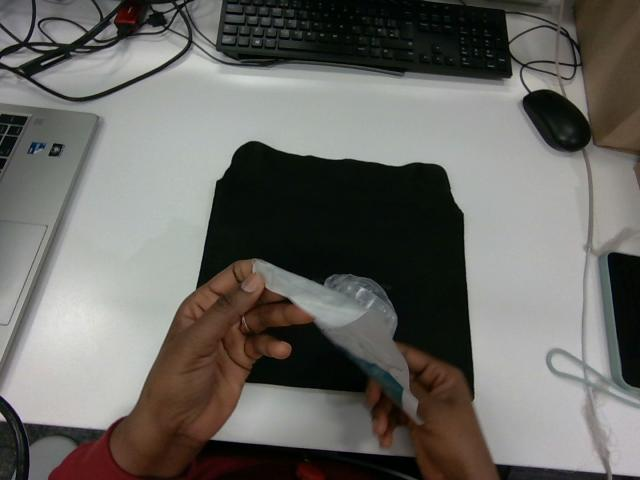gallipot: (253, 260, 422, 423)
